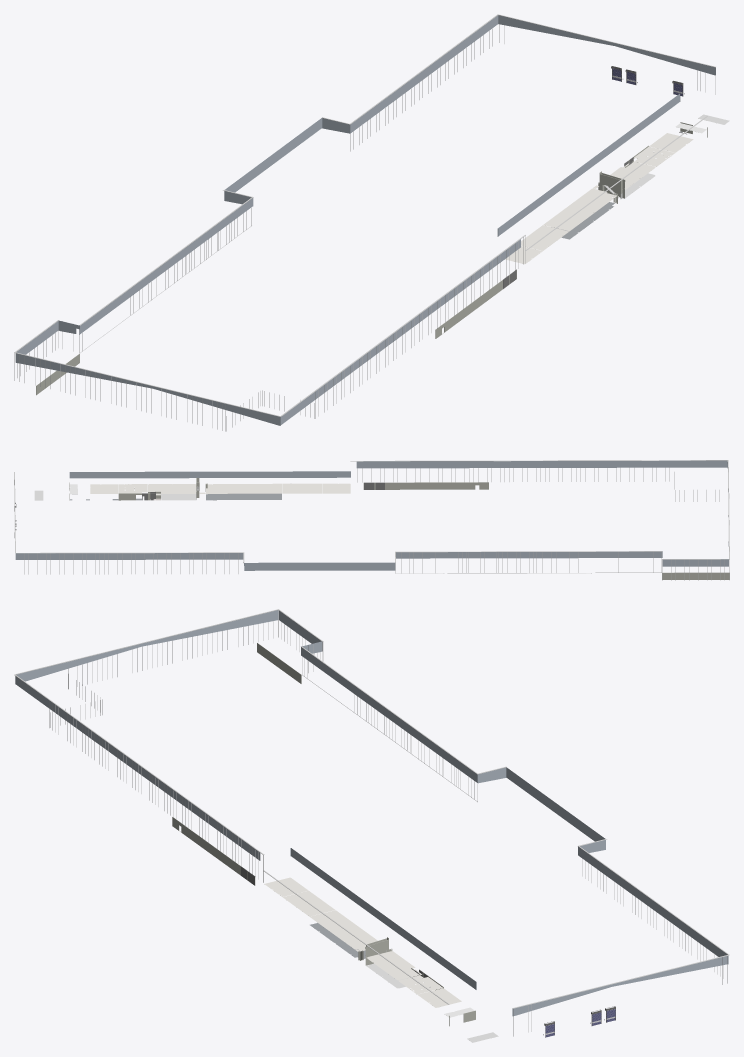
The model's file is pt-108-mantenimiento-mayor-hq-p05.glb.
3 views of the same model, one above another, from view 1: azimuth 30°, elevation 25°; view 2: azimuth 150°, elevation 25°; view 3: azimuth 270°, elevation 25° (orthographic). The views are drawn at different scales.
Visible parts, largest first — view 1: 2HJVnQM4n43ADhrqumJwQu, 2HJVnQM4n43ADhrqumJzOj, 2HJVnQM4n43ADhrqumJzOE, 2HJVnQM4n43ADhrqumJzO5, 2HJVnQM4n43ADhrqumJzOB, 2HJVnQM4n43ADhrqumJzRu, 1XqEh2LP1CnwNI2uchx8Nw, 2HJVnQM4n43ADhrqumJzO8, 1XqEh2LP1CnwNI2uchx8BP; view 2: 2HJVnQM4n43ADhrqumJwQu, 2HJVnQM4n43ADhrqumJzOE, 2HJVnQM4n43ADhrqumJzO5, 2HJVnQM4n43ADhrqumJzOB, 2HJVnQM4n43ADhrqumJzO8, 1XqEh2LP1CnwNI2uchx8Nw, 312iLA5mP56xC$0KJ4qw5t, 0CA3KfMInCYRpkP6xzxi2M, 2HJVnQM4n43ADhrqumJzOG, 0Pzhl$ssX0pOCCw7afMgzk, 2HJVnQM4n43ADhrqumJzOe, 1XqEh2LP1CnwNI2uchx8bU (+8 smaller); view 3: 2HJVnQM4n43ADhrqumJwQu, 2HJVnQM4n43ADhrqumJzOj, 2HJVnQM4n43ADhrqumJzOE, 2HJVnQM4n43ADhrqumJzO5, 2HJVnQM4n43ADhrqumJzOB, 2HJVnQM4n43ADhrqumJzRu, 1XqEh2LP1CnwNI2uchx8Nw, 2HJVnQM4n43ADhrqumJzO8, 1XqEh2LP1CnwNI2uchx8bU, 1XqEh2LP1CnwNI2uchx8BP.
Boxes of the visible parts, <box> form: 2HJVnQM4n43ADhrqumJwQu: <box>280,239,520,424</box>; 2HJVnQM4n43ADhrqumJzOj: <box>15,353,280,425</box>; 2HJVnQM4n43ADhrqumJzOE: <box>498,93,679,235</box>; 2HJVnQM4n43ADhrqumJzO5: <box>80,198,253,333</box>; 2HJVnQM4n43ADhrqumJzOB: <box>350,15,498,133</box>; 2HJVnQM4n43ADhrqumJzRu: <box>498,15,715,75</box>; 1XqEh2LP1CnwNI2uchx8Nw: <box>543,188,617,231</box>; 2HJVnQM4n43ADhrqumJzO8: <box>225,118,322,192</box>; 1XqEh2LP1CnwNI2uchx8BP: <box>521,225,568,250</box>; 2HJVnQM4n43ADhrqumJwQu: <box>356,460,727,468</box>; 2HJVnQM4n43ADhrqumJzOE: <box>69,471,350,478</box>; 2HJVnQM4n43ADhrqumJzO5: <box>396,551,662,558</box>; 2HJVnQM4n43ADhrqumJzOB: <box>15,553,243,559</box>; 2HJVnQM4n43ADhrqumJzO8: <box>244,562,395,570</box>; 1XqEh2LP1CnwNI2uchx8Nw: <box>206,483,281,493</box>; 312iLA5mP56xC$0KJ4qw5t: <box>385,482,466,489</box>; 0CA3KfMInCYRpkP6xzxi2M: <box>662,572,729,579</box>; 2HJVnQM4n43ADhrqumJzOG: <box>662,559,728,566</box>; 0Pzhl$ssX0pOCCw7afMgzk: <box>206,493,281,500</box>; 2HJVnQM4n43ADhrqumJzOe: <box>350,460,727,461</box>; 1XqEh2LP1CnwNI2uchx8bU: <box>148,484,196,493</box>; 2HJVnQM4n43ADhrqumJwQu: <box>15,676,260,860</box>; 2HJVnQM4n43ADhrqumJzOj: <box>16,610,278,681</box>; 2HJVnQM4n43ADhrqumJzOE: <box>291,848,476,989</box>; 2HJVnQM4n43ADhrqumJzO5: <box>301,647,477,782</box>; 2HJVnQM4n43ADhrqumJzOB: <box>578,846,727,956</box>; 2HJVnQM4n43ADhrqumJzRu: <box>512,955,728,1016</box>; 1XqEh2LP1CnwNI2uchx8Nw: <box>310,910,377,951</box>; 2HJVnQM4n43ADhrqumJzO8: <box>506,767,605,841</box>; 1XqEh2LP1CnwNI2uchx8bU: <box>366,951,419,980</box>; 1XqEh2LP1CnwNI2uchx8BP: <box>282,890,334,916</box>.
Bounding box in the file's own units: 365 × 16 × 276.
